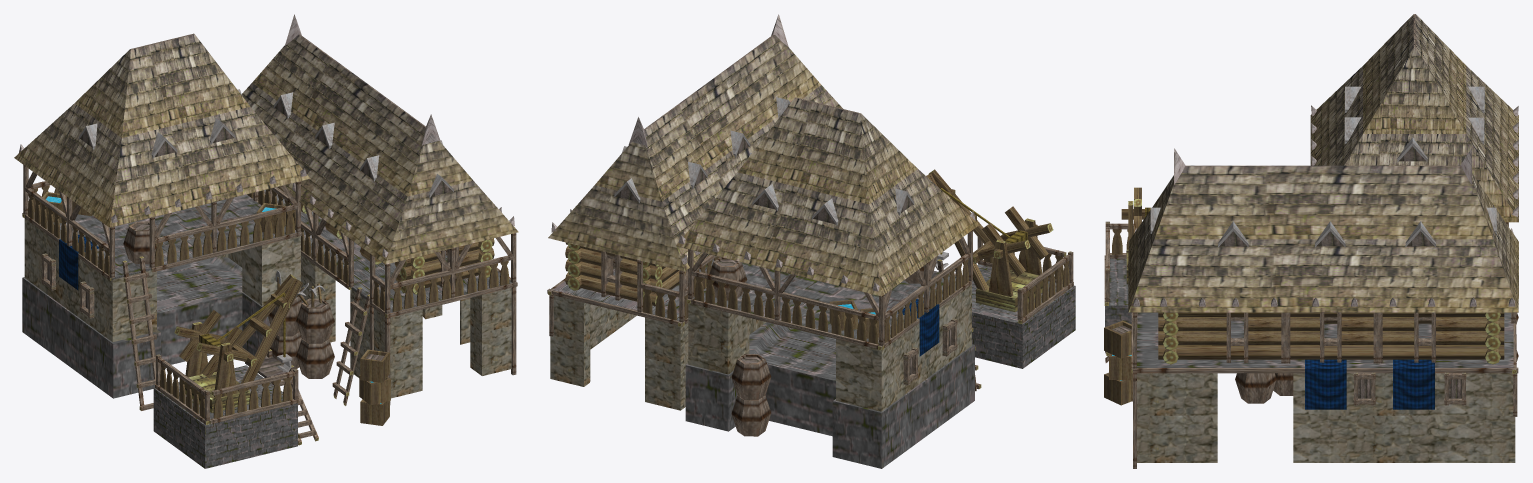
File: arsenal.dae
3 views of the same model, side by side, from view 1: azimuth 30°, elevation 25°; view 2: azimuth 150°, elevation 25°; view 3: azimuth 270°, elevation 25° (orthographic). The views are drawn at different scales.
Parts seen in each view (by area): view 1: arsenal; view 2: arsenal; view 3: arsenal.
Boxes of the visible parts, bbox=[...] form: arsenal: bbox=[14, 14, 518, 468]; arsenal: bbox=[547, 14, 1075, 468]; arsenal: bbox=[1104, 14, 1518, 468].
Size of the model in its own units: 25.97 by 26.08 by 22.9.
